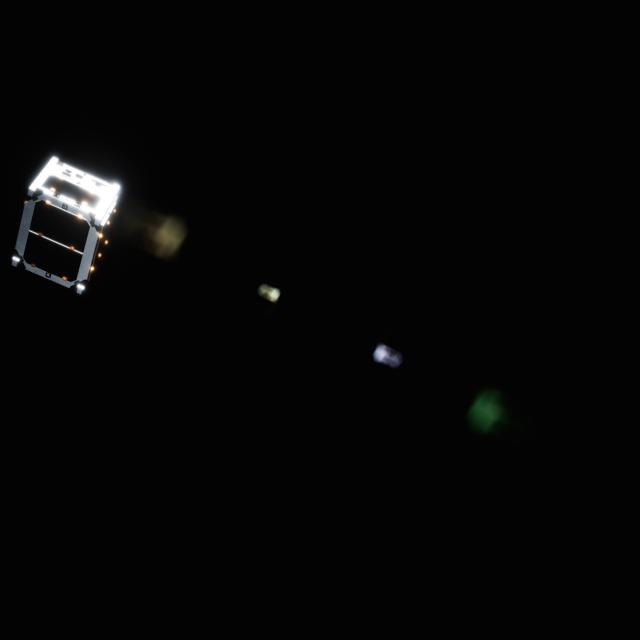satellite: (8, 152, 130, 298)
